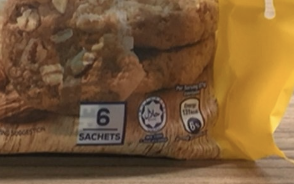halal: (144, 103, 163, 125)
